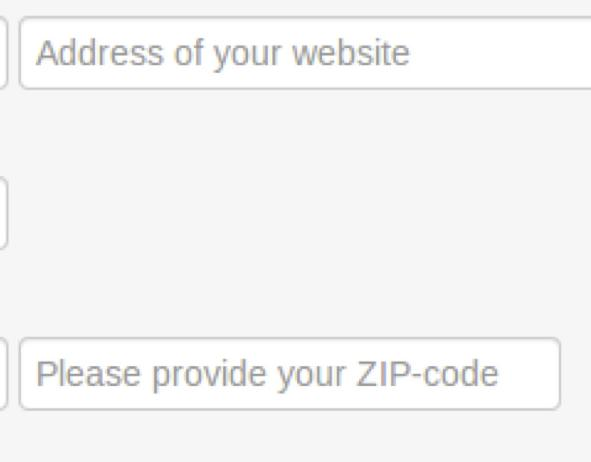field: (16, 334, 565, 415)
